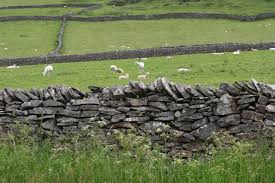sheep: (136, 71, 155, 84), (108, 63, 125, 76), (42, 62, 55, 79), (177, 67, 190, 79), (131, 59, 145, 68), (7, 63, 19, 71), (232, 48, 243, 55), (120, 74, 130, 81)
